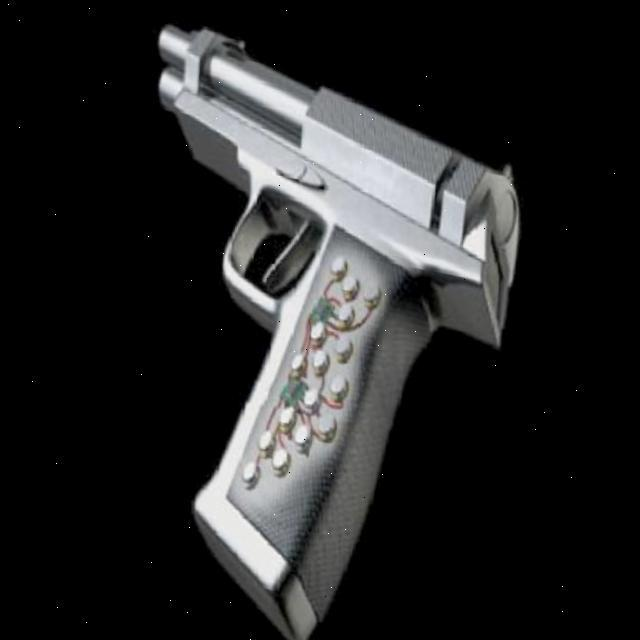gun: (80, 6, 556, 640)
